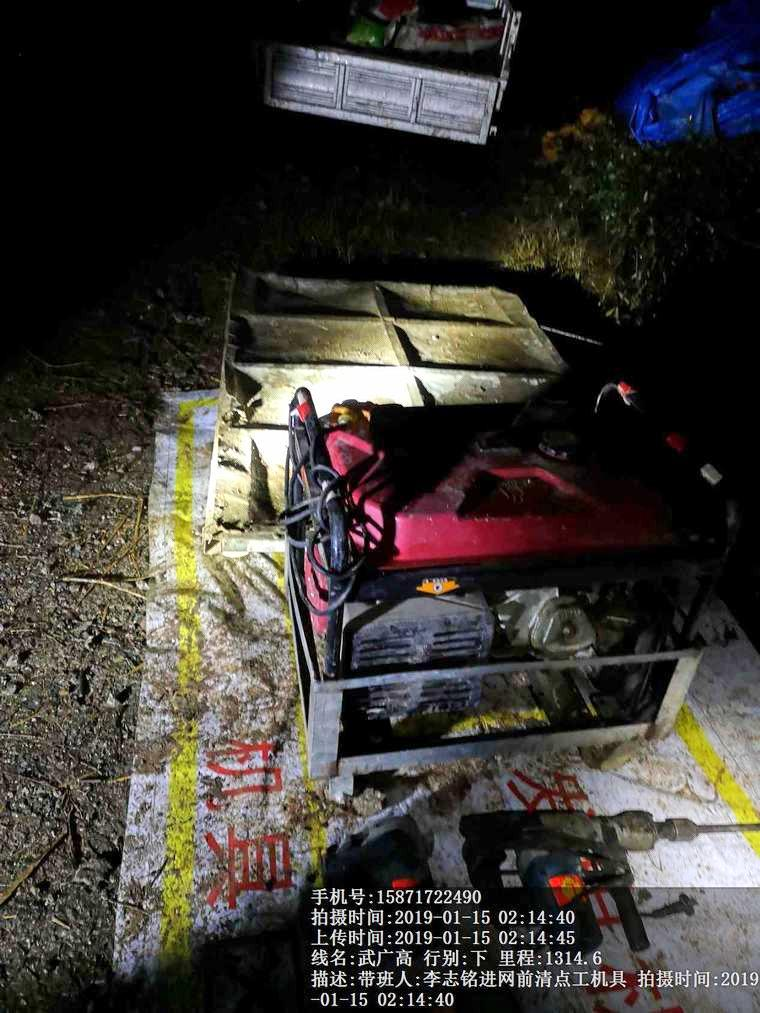DJ: (266, 400, 719, 769)
DZ: (442, 772, 734, 901)
